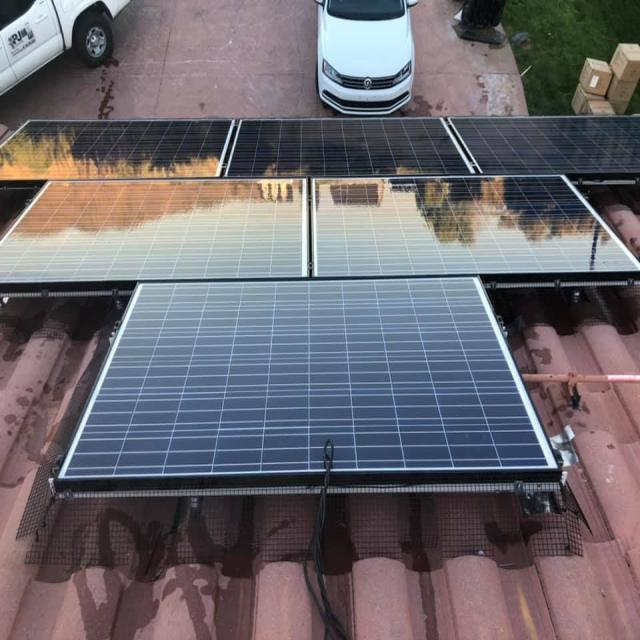clean-solar-panel: (0, 114, 640, 287), (56, 277, 559, 492)
